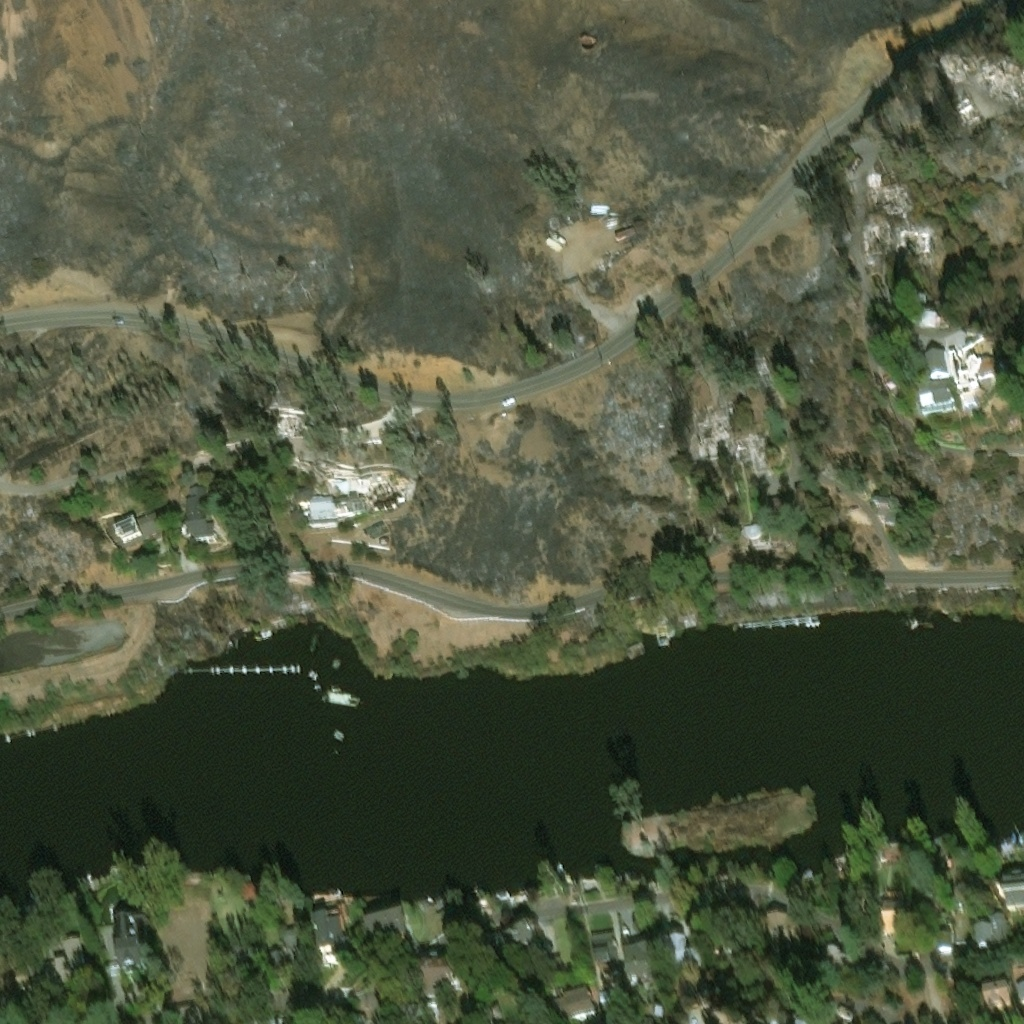0 no-damage: (91, 923, 147, 1018), (37, 937, 95, 1003), (907, 314, 987, 358), (962, 355, 1012, 413), (107, 512, 165, 555), (296, 489, 354, 529), (947, 355, 984, 413), (484, 923, 538, 958), (311, 912, 352, 955), (187, 487, 216, 547), (363, 912, 410, 949), (548, 979, 593, 1016), (653, 930, 701, 963), (339, 982, 378, 1022), (921, 379, 959, 417), (115, 908, 154, 945), (996, 857, 1023, 910), (421, 951, 452, 993), (116, 942, 150, 978), (622, 936, 655, 973), (761, 910, 799, 942), (588, 923, 617, 960), (828, 846, 856, 884), (821, 942, 854, 971), (981, 977, 1012, 1004), (995, 825, 1023, 853), (927, 356, 951, 385), (284, 930, 303, 964), (988, 909, 1008, 941), (686, 1004, 719, 1023), (739, 522, 766, 545), (402, 996, 426, 1017), (972, 916, 991, 941), (880, 839, 901, 861), (291, 1006, 317, 1023), (615, 227, 638, 244), (421, 996, 440, 1016), (880, 911, 901, 929), (268, 951, 286, 971), (234, 950, 256, 966), (404, 910, 415, 941), (947, 356, 960, 382), (936, 842, 951, 864), (881, 883, 902, 898), (880, 898, 901, 912), (871, 492, 889, 507), (938, 927, 951, 947), (836, 1003, 853, 1018), (1013, 974, 1023, 998), (244, 884, 258, 901), (801, 864, 813, 879), (328, 910, 340, 922), (299, 598, 312, 609), (494, 886, 508, 896), (361, 892, 378, 900), (792, 1014, 805, 1023), (653, 1002, 661, 1014), (237, 631, 245, 639)
3 destroyed: (979, 60, 1023, 97), (895, 229, 935, 268), (697, 409, 727, 459), (862, 225, 893, 269), (880, 182, 912, 217), (954, 96, 984, 130), (266, 403, 305, 429), (735, 430, 765, 463), (866, 171, 882, 216), (943, 57, 967, 83), (759, 345, 783, 371), (744, 350, 768, 375)
